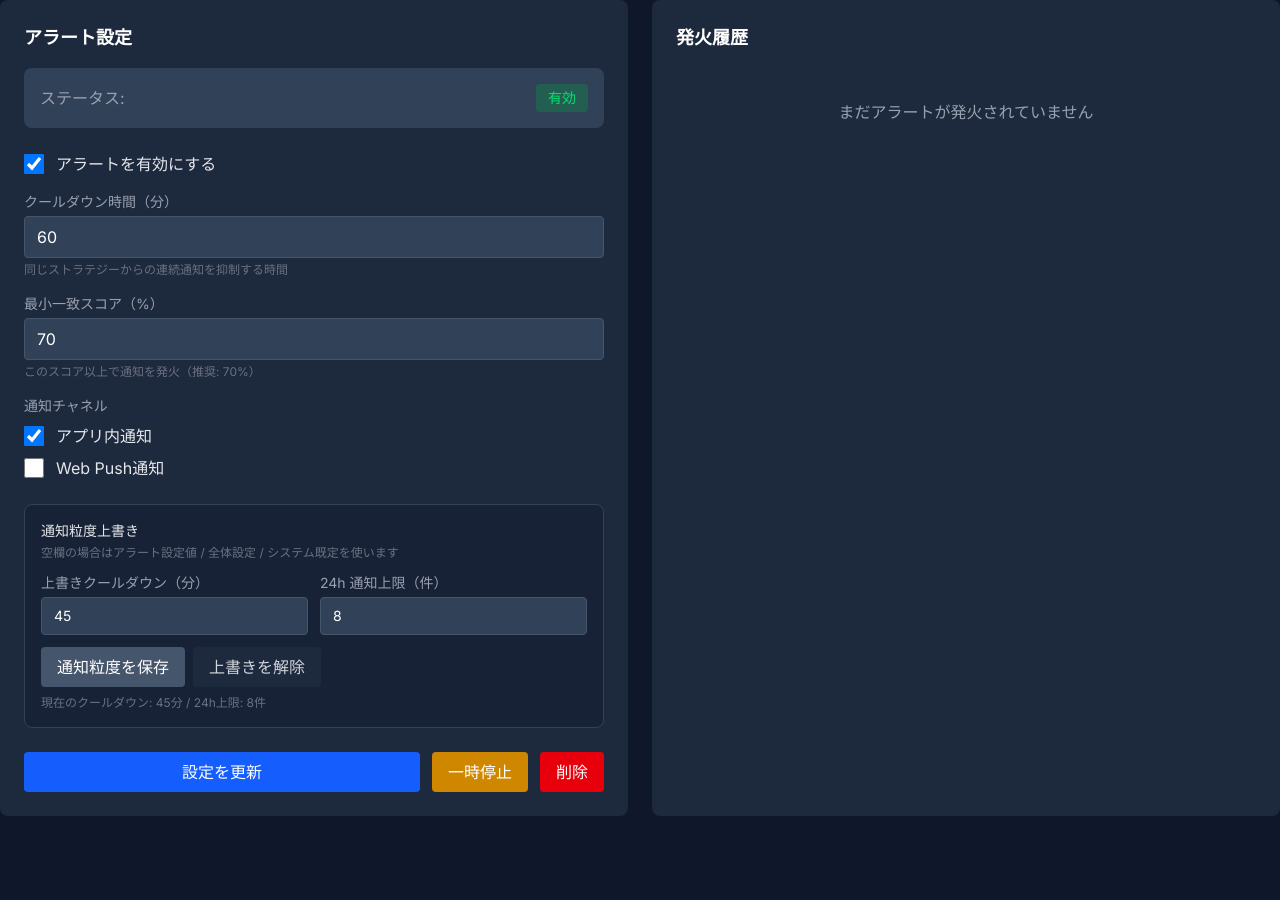
Test: ストラテジーアラート設定画面 › 24h上限のバリデーションエラー時は保存しない
The width and height of the screenshot is (1280, 900).
Replace the text in the number field named "ストラテジー24h通知上限" with "0" at (454,616), box 320,597 -> 587,635
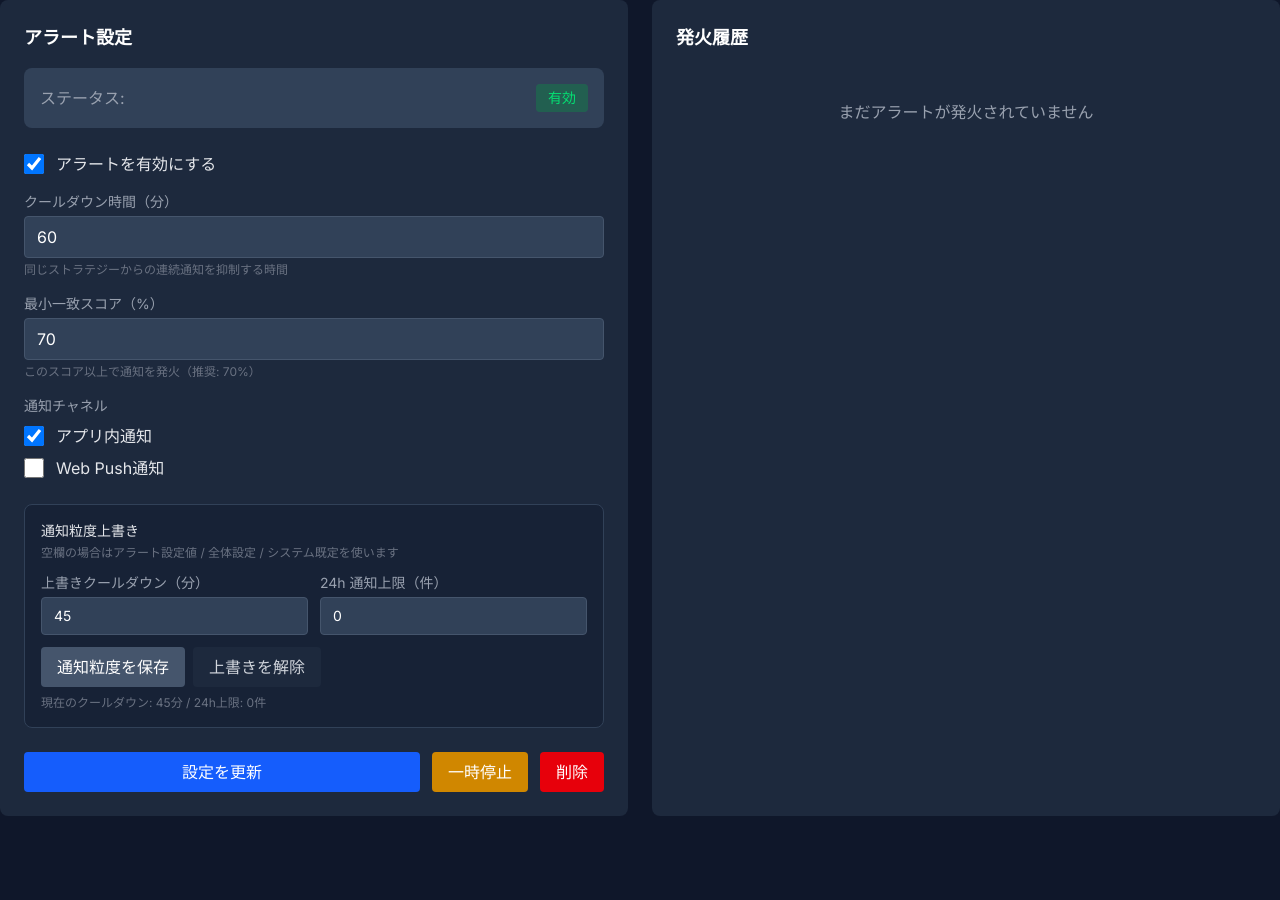
Click the button "通知粒度を保存" at (113,667), box 41,647 -> 185,687
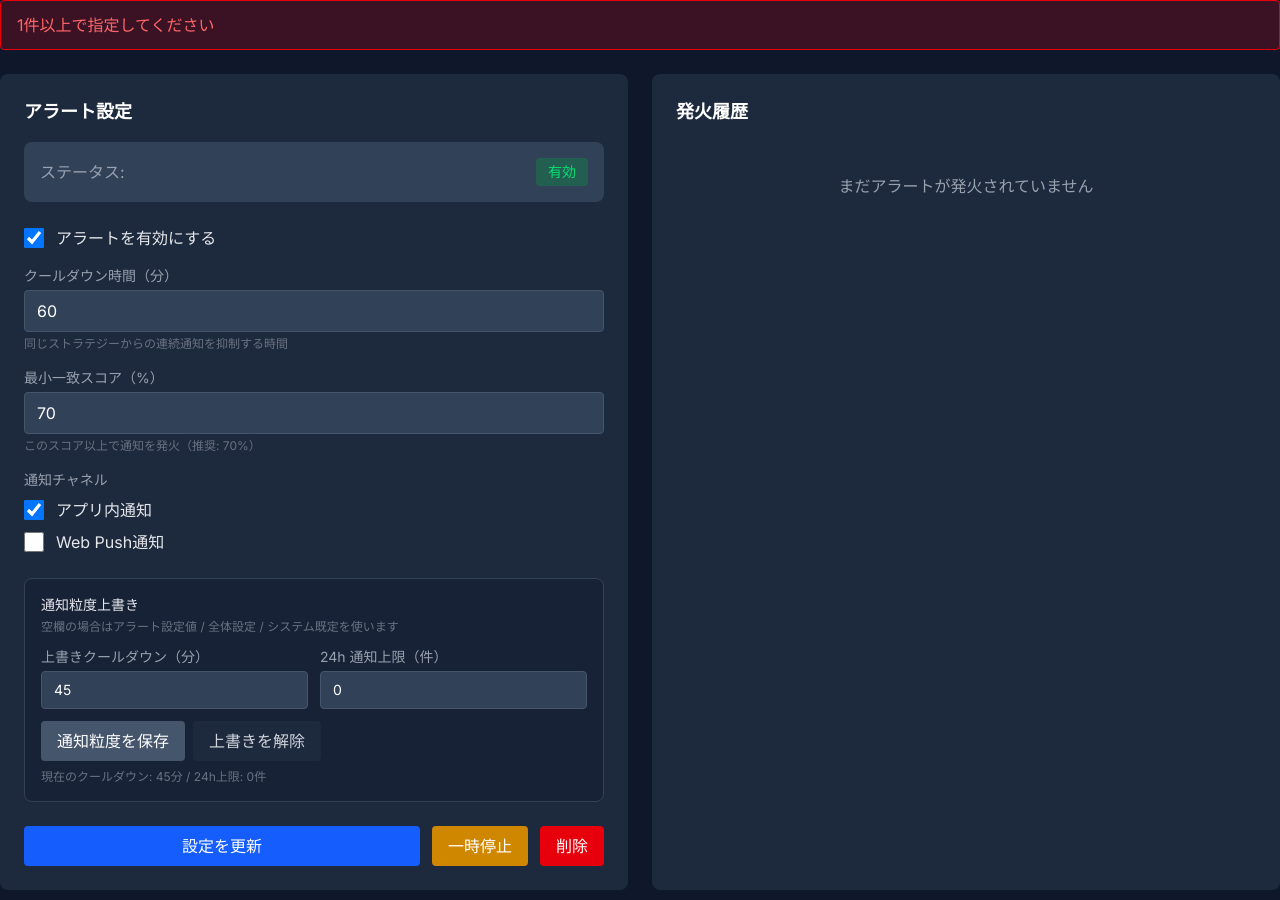
Result: the text "1件以上で指定してください" is shown at 0,0 -> 1279,50
